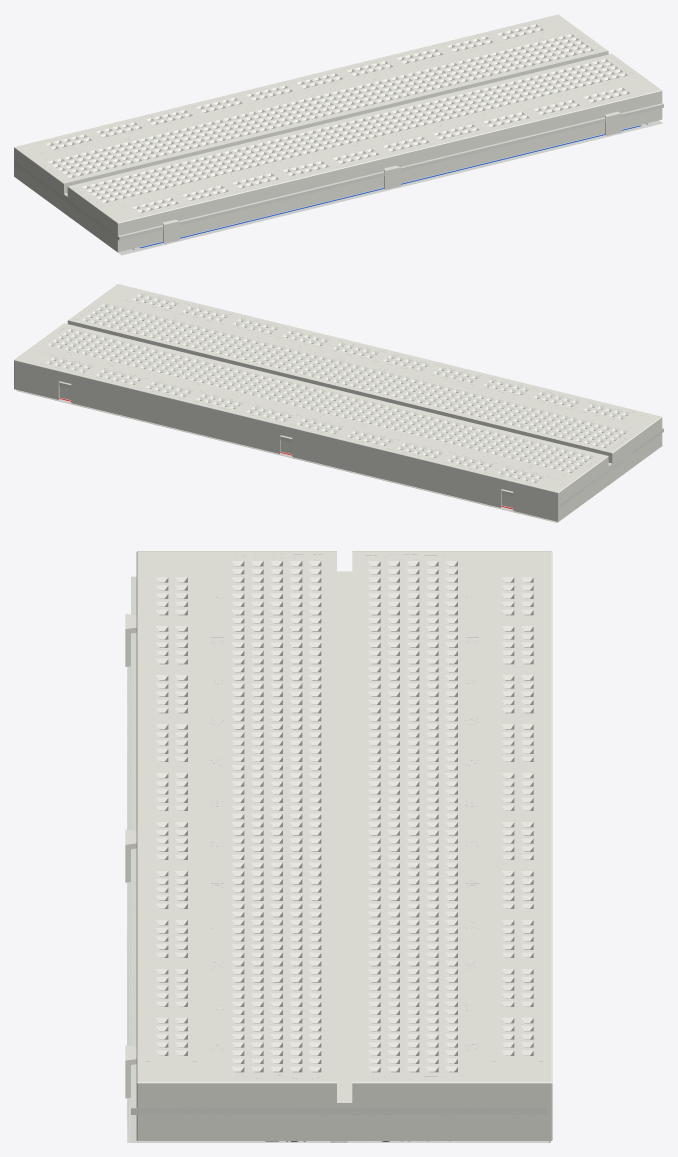
The model's file is breadboard.glb.
3 renders of one model, top to bottom at view 1: azimuth 30°, elevation 25°; view 2: azimuth 150°, elevation 25°; view 3: azimuth 270°, elevation 25°, orthographic. The views are drawn at different scales.
Parts seen in each view (by area): view 1: Breadboard shell 2, Breadboard shell 1, Breadboard photographic top; view 2: Breadboard shell 2, Breadboard photographic top, Breadboard shell 1; view 3: Breadboard shell 2, Breadboard shell 1, Breadboard photographic top.
Part boxes in pixels (x1,y1,x2,y2): Breadboard shell 2: [14, 14, 662, 252]; Breadboard shell 1: [15, 103, 663, 240]; Breadboard photographic top: [23, 120, 662, 255]; Breadboard shell 2: [14, 284, 662, 521]; Breadboard photographic top: [16, 390, 662, 522]; Breadboard shell 1: [59, 381, 663, 507]; Breadboard shell 2: [125, 551, 552, 1140]; Breadboard shell 1: [131, 576, 546, 1114]; Breadboard photographic top: [127, 614, 550, 1142].
Size of the model in its own units: 166 by 9.01 by 56.25.
Materials: 3 (1 with a texture image).
